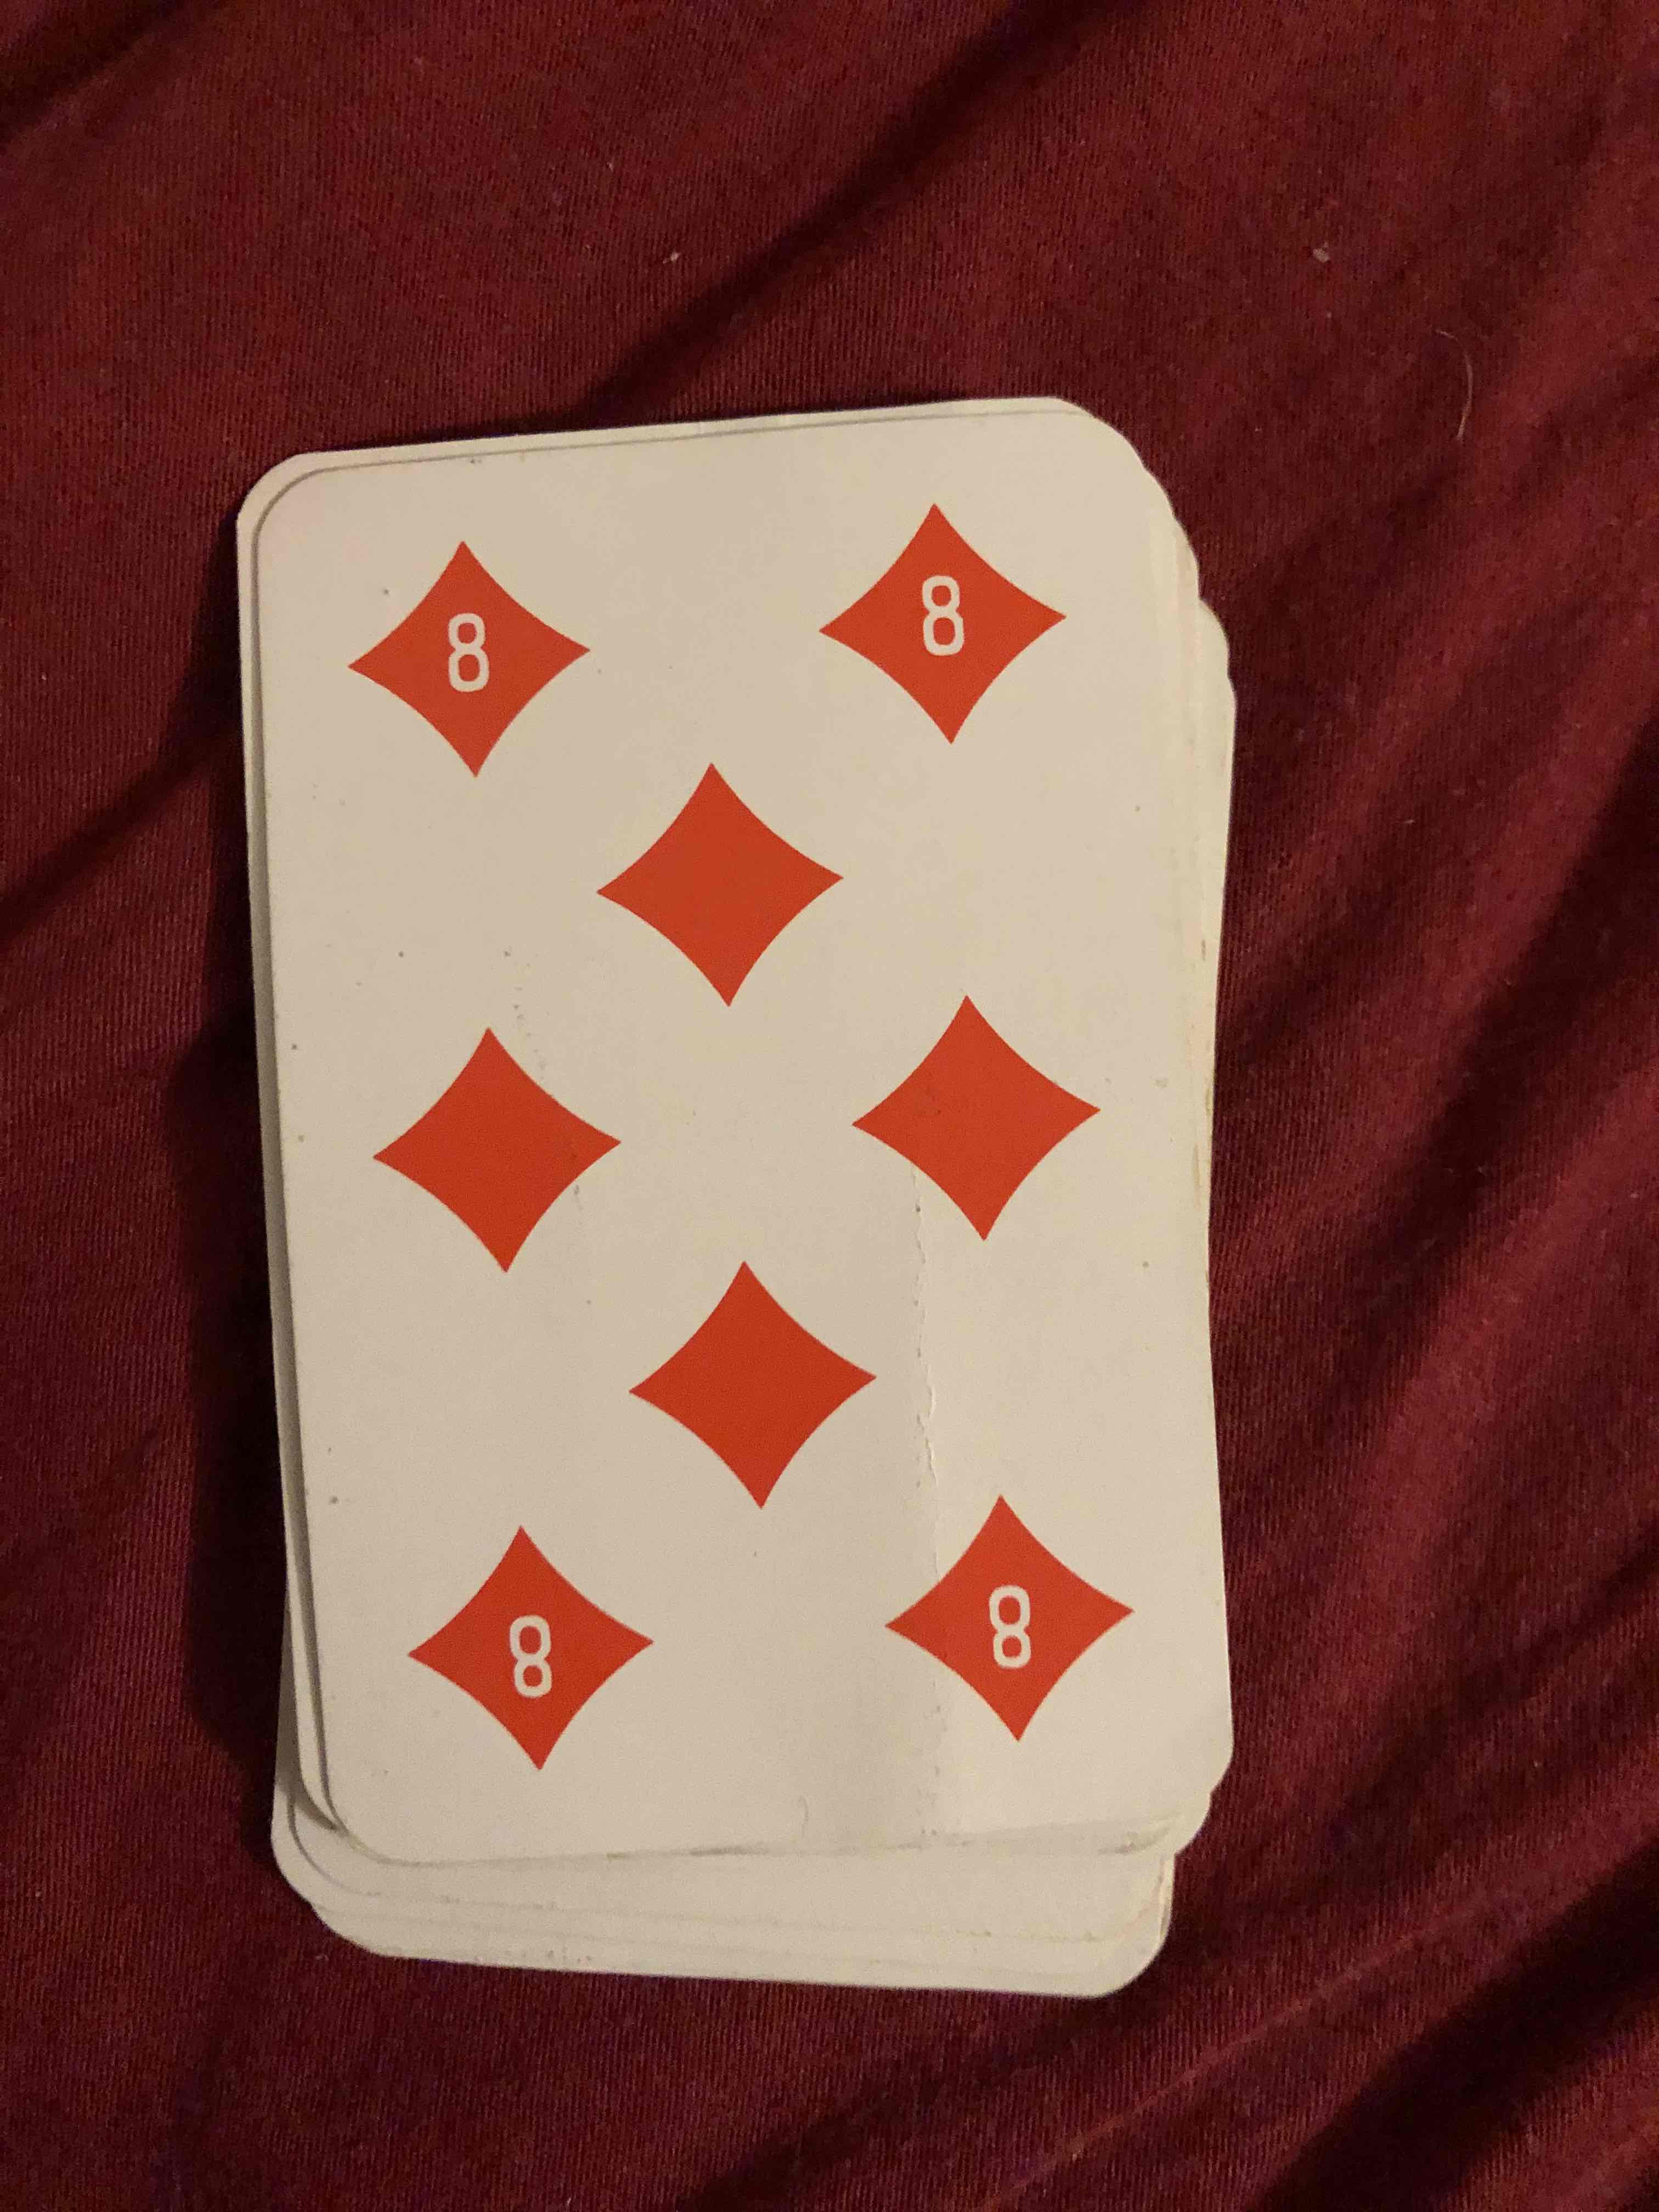diamond8: (260, 460, 1230, 1817)
